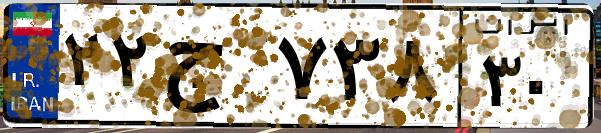0: (525, 38, 570, 115)
2: (57, 26, 110, 100), (110, 28, 158, 98)
3: (330, 28, 385, 110), (475, 38, 525, 113)
7: (270, 28, 330, 110)
8: (385, 28, 445, 110)
ج: (158, 20, 270, 120)
